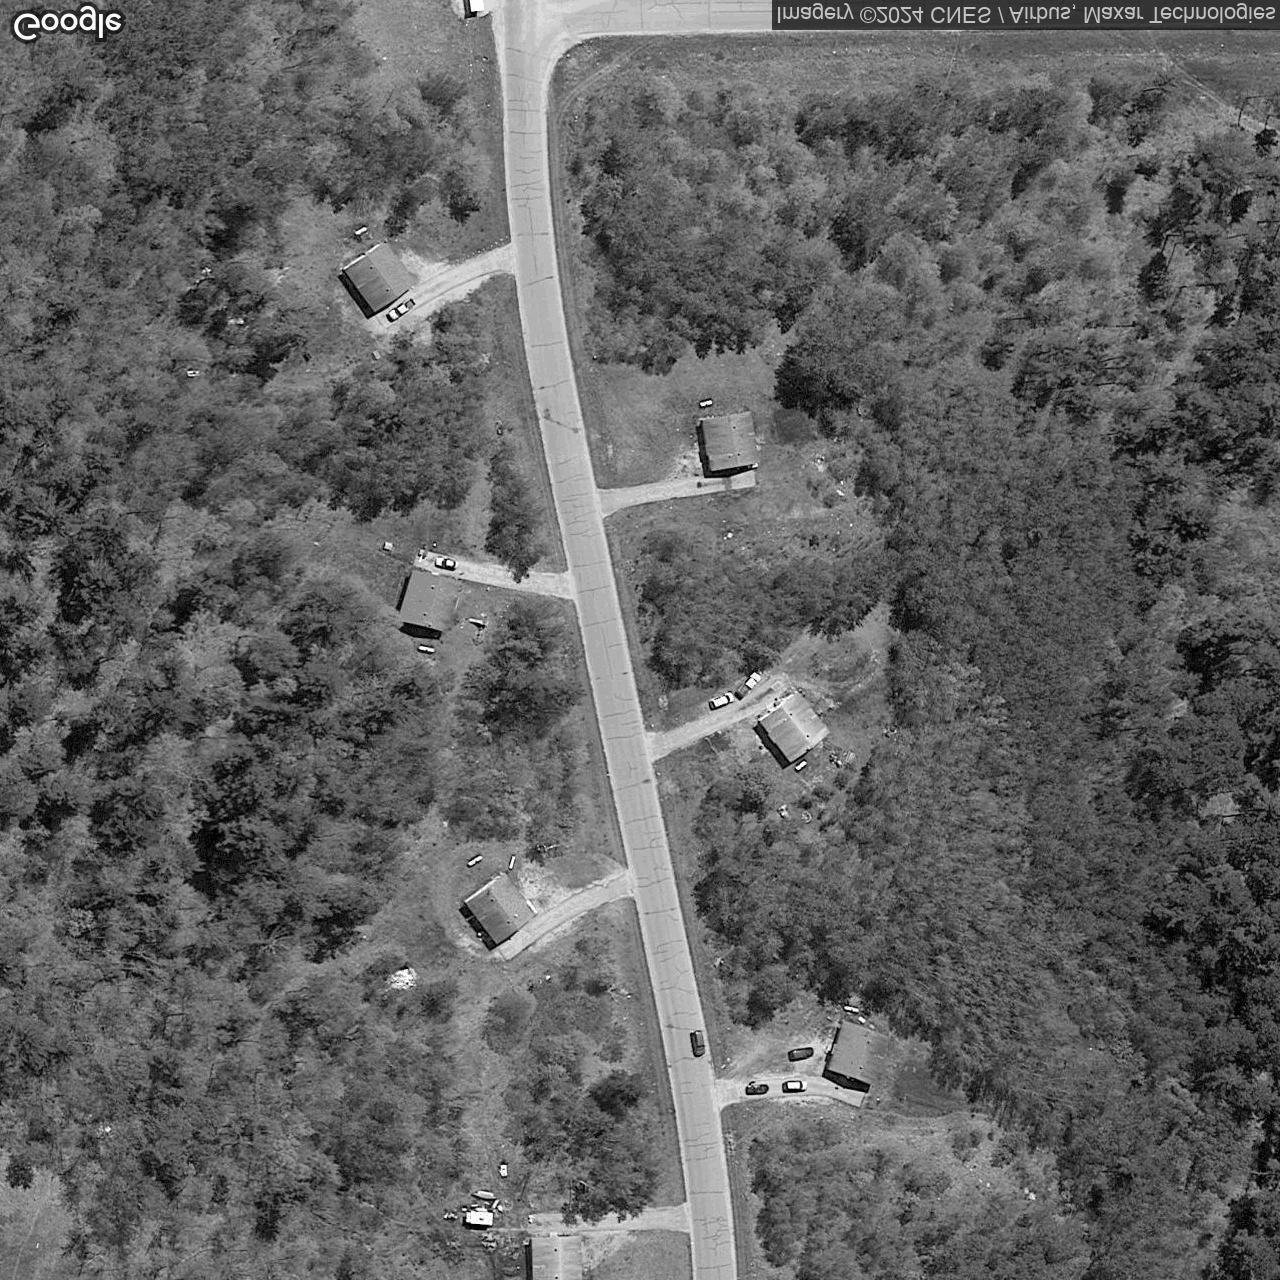House: (338, 238, 416, 313), (464, 870, 538, 946), (754, 690, 831, 763), (826, 1020, 891, 1085), (396, 568, 461, 633), (699, 410, 761, 471), (530, 1234, 583, 1280)
Propane: (467, 853, 484, 870), (791, 758, 810, 774), (416, 644, 436, 655), (353, 224, 369, 238), (842, 1005, 860, 1014), (508, 853, 517, 871), (697, 399, 713, 409)
